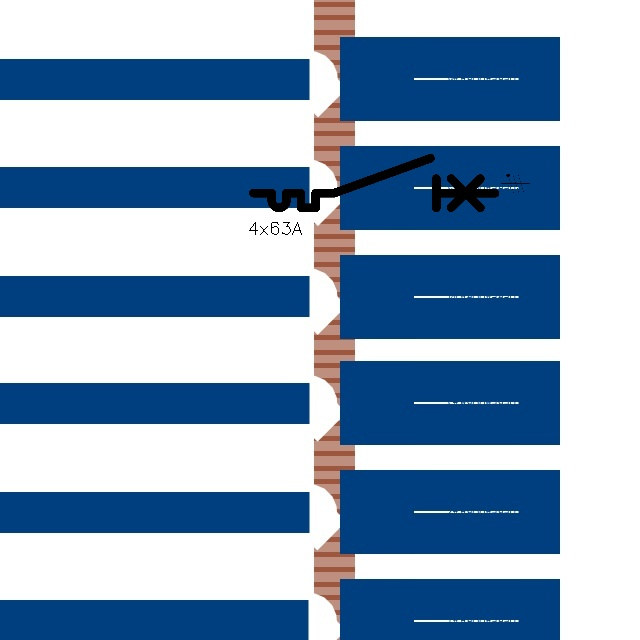interruptor_termomagnetico: (247, 152, 501, 214)
